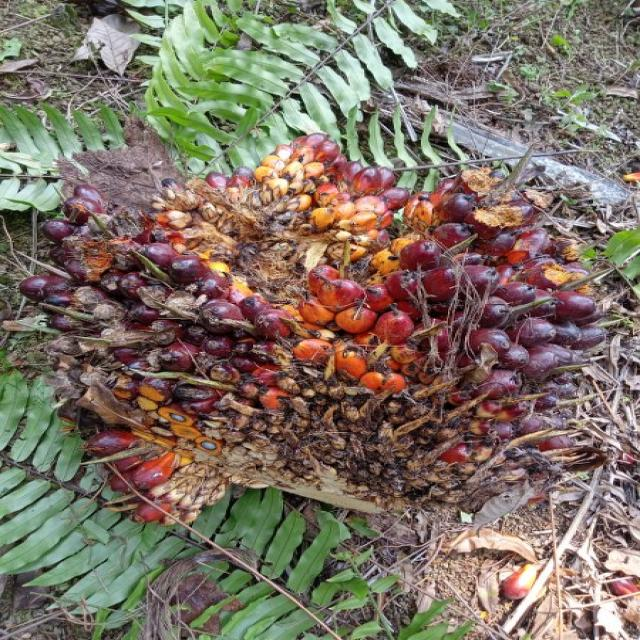fraksi 1: (52, 136, 605, 525)
